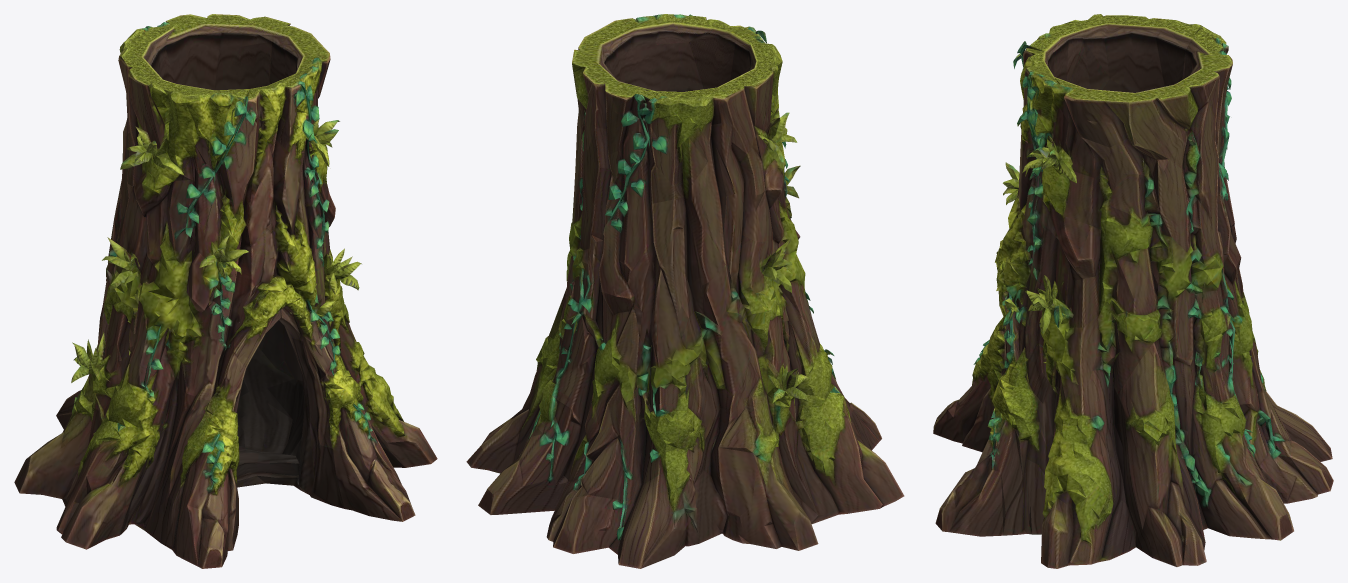
Rendered from HollowTree.fbx.
The picture shows the model from 3 angles, left to right: view 1: azimuth 30°, elevation 25°; view 2: azimuth 150°, elevation 25°; view 3: azimuth 270°, elevation 25°; orthographic projection.
Parts seen in each view (by area): view 1: HollowTree; view 2: HollowTree; view 3: HollowTree.
Part boxes in pixels (box(x1,y1,x2,y2)): HollowTree: box(14, 14, 437, 568); HollowTree: box(466, 14, 904, 568); HollowTree: box(933, 14, 1333, 568).
Size of the model in its own units: 5.7 by 6.2 by 5.27.
1 material, 1 textured.
